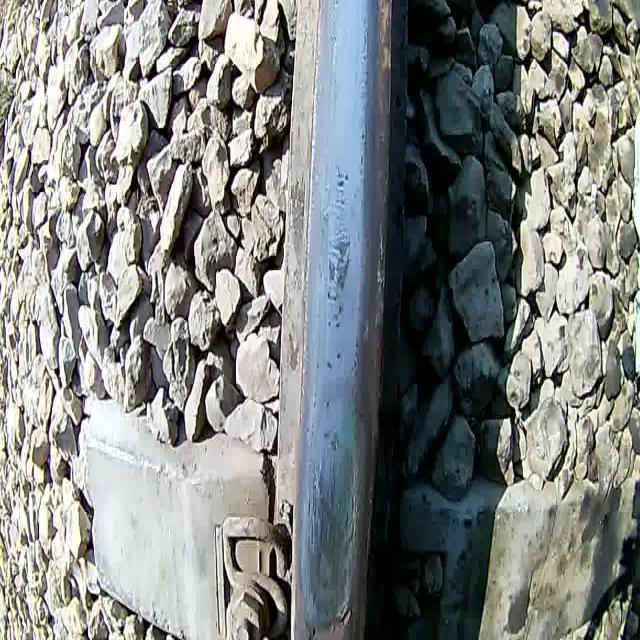Squats: (297, 424, 362, 640), (316, 158, 354, 376)
